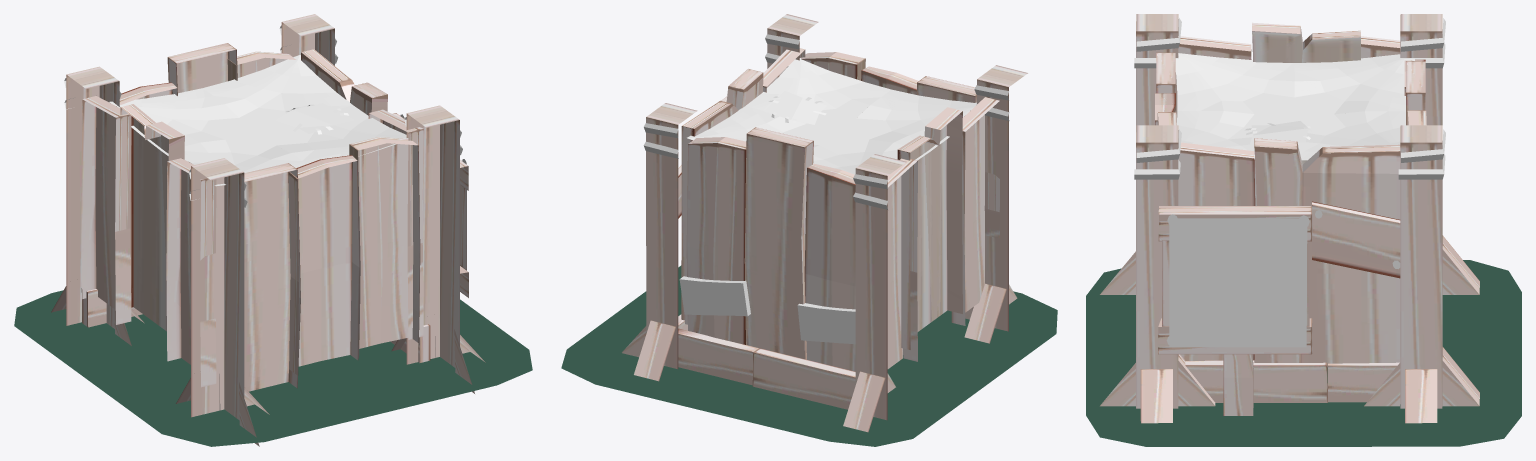
The model's file is Construction2x2 (old style).fbx.
3 views of the same model, side by side, from view 1: azimuth 30°, elevation 25°; view 2: azimuth 150°, elevation 25°; view 3: azimuth 270°, elevation 25° (orthographic). The views are drawn at different scales.
Parts seen in each view (by area): view 1: ShadowSquare, Cover2x2, Plank06 (1), Pillar (4), Plank04 (1), Plank05 (1), Pillar (2), Plank011 (1), Plank012, Plank011, Pillar (3), Plank02 (+8 smaller); view 2: ShadowSquare, Plank05, Cover2x2, Plank012, Plank04, Pillar (1), Pillar (3), Plank06, Pillar (4), Plank011, Plank011 (1), Plank07 (+10 smaller); view 3: ShadowSquare, Sign, Cover2x2, Plank03, Pillar (1), Pillar (2), NailedPlank01, Plank02, Pillar (3), Pillar (4), Plank07 (1), Plank012 (+7 smaller).
Part boxes in pixels (box(x1,y1,x2,y2)): ShadowSquare: box(14, 290, 532, 446); Cover2x2: box(109, 55, 408, 186); Plank06 (1): box(288, 155, 359, 374); Pillar (4): box(176, 158, 269, 446); Plank04 (1): box(349, 137, 420, 358); Plank05 (1): box(244, 163, 300, 391); Pillar (2): box(391, 105, 485, 393); Plank011 (1): box(81, 96, 131, 324); Plank012: box(120, 104, 184, 331); Plank011: box(166, 158, 216, 387); Pillar (3): box(51, 66, 144, 345); Plank02: box(368, 109, 423, 339); ShadowSquare: box(561, 265, 1057, 446); Plank05: box(745, 127, 813, 359); Cover2x2: box(687, 58, 976, 174); Plank012: box(897, 107, 962, 349); Plank04: box(686, 137, 746, 344); Pillar (1): box(622, 103, 697, 381); Pillar (3): box(843, 154, 906, 432); Plank06: box(804, 163, 855, 371); Pillar (4): box(964, 65, 1027, 343); Plank011: box(951, 97, 999, 325); Plank011 (1): box(887, 158, 917, 368); Plank07: box(752, 348, 855, 409); ShadowSquare: box(1086, 260, 1521, 446); Sign: box(1158, 206, 1312, 415); Cover2x2: box(1175, 53, 1414, 160); Plank03: box(1254, 138, 1400, 366); Pillar (1): box(1364, 125, 1479, 423); Pillar (2): box(1100, 125, 1215, 423); NailedPlank01: box(1312, 201, 1400, 278); Plank02: box(1178, 142, 1255, 360); Pillar (3): box(1398, 14, 1479, 294); Pillar (4): box(1100, 14, 1181, 294); Plank07 (1): box(1185, 360, 1327, 402); Plank012: box(1252, 22, 1360, 205).
Bounding box in the file's own units: 2.37 × 1.63 × 2.34.
